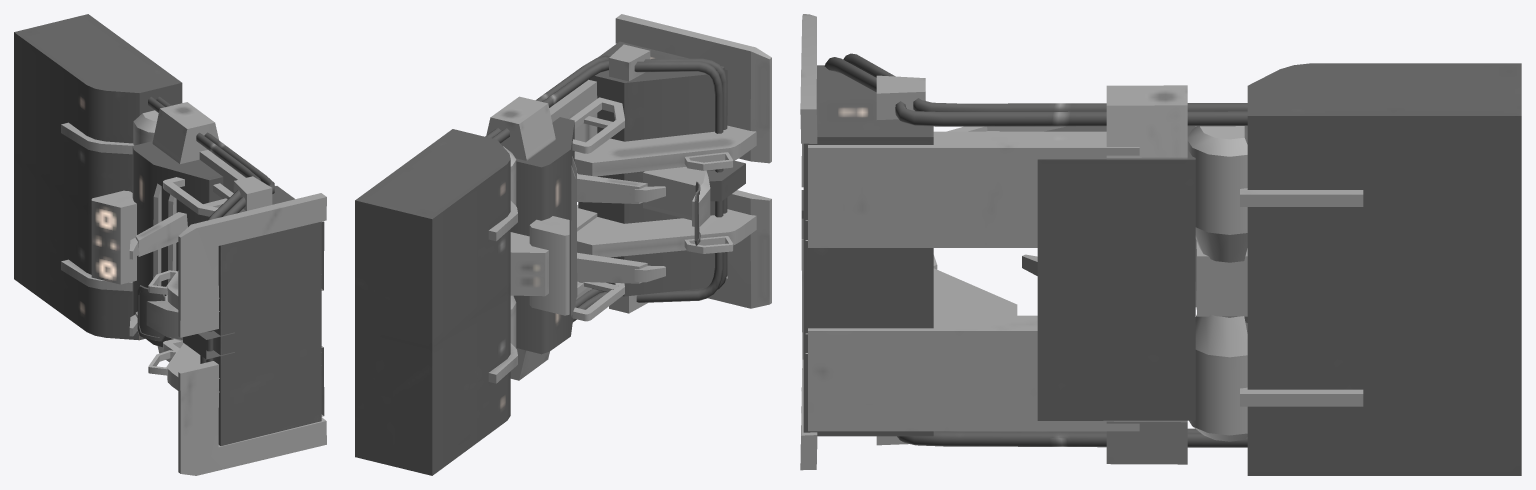
Rendered from Pfb_BossScene.fbx.
The picture shows the model from 3 angles, left to right: view 1: azimuth 30°, elevation 25°; view 2: azimuth 150°, elevation 25°; view 3: azimuth 270°, elevation 25°; orthographic projection. The views are drawn at different scales.
Visible parts, largest first — view 1: BossJumperScene 2; view 2: BossJumperScene 2; view 3: BossJumperScene 2.
Part boxes in pixels (x1,y1,x2,y2): BossJumperScene 2: (14,14,326,475); BossJumperScene 2: (355,14,771,475); BossJumperScene 2: (800,14,1521,475).
Bounding box in the file's own units: 1.37 × 2.02 × 3.65.
1 material, 1 textured.
